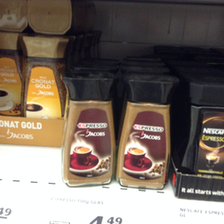coffee: (116, 76, 177, 189), (59, 72, 117, 188), (178, 77, 224, 175), (22, 32, 66, 118)
